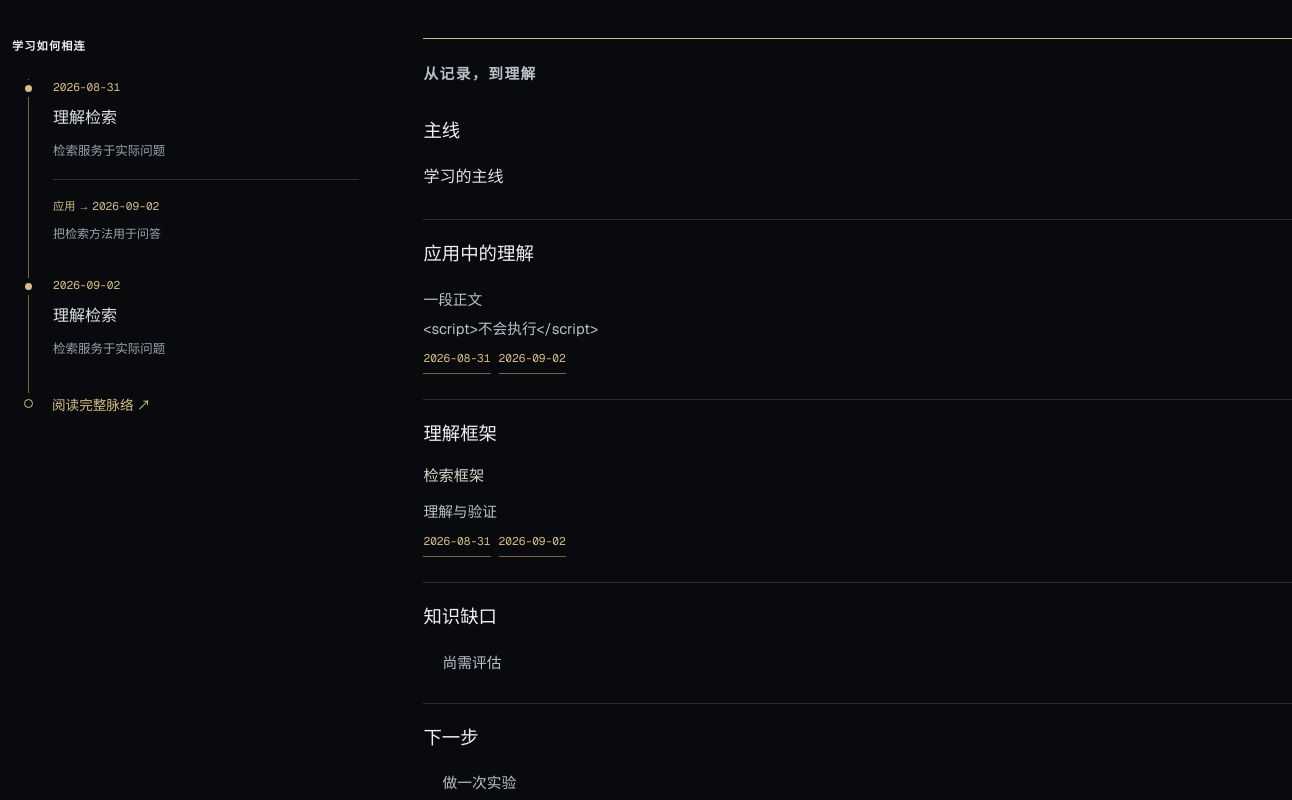
Scenario: reads all three reflections in a source snapshot without exposing their storage format
This screenshot has width=1292, height=800.
Click the button with aria-label "查看来源 2026-08-31".
click(87, 87)  # box [53,79,359,163]
(page scrolled)
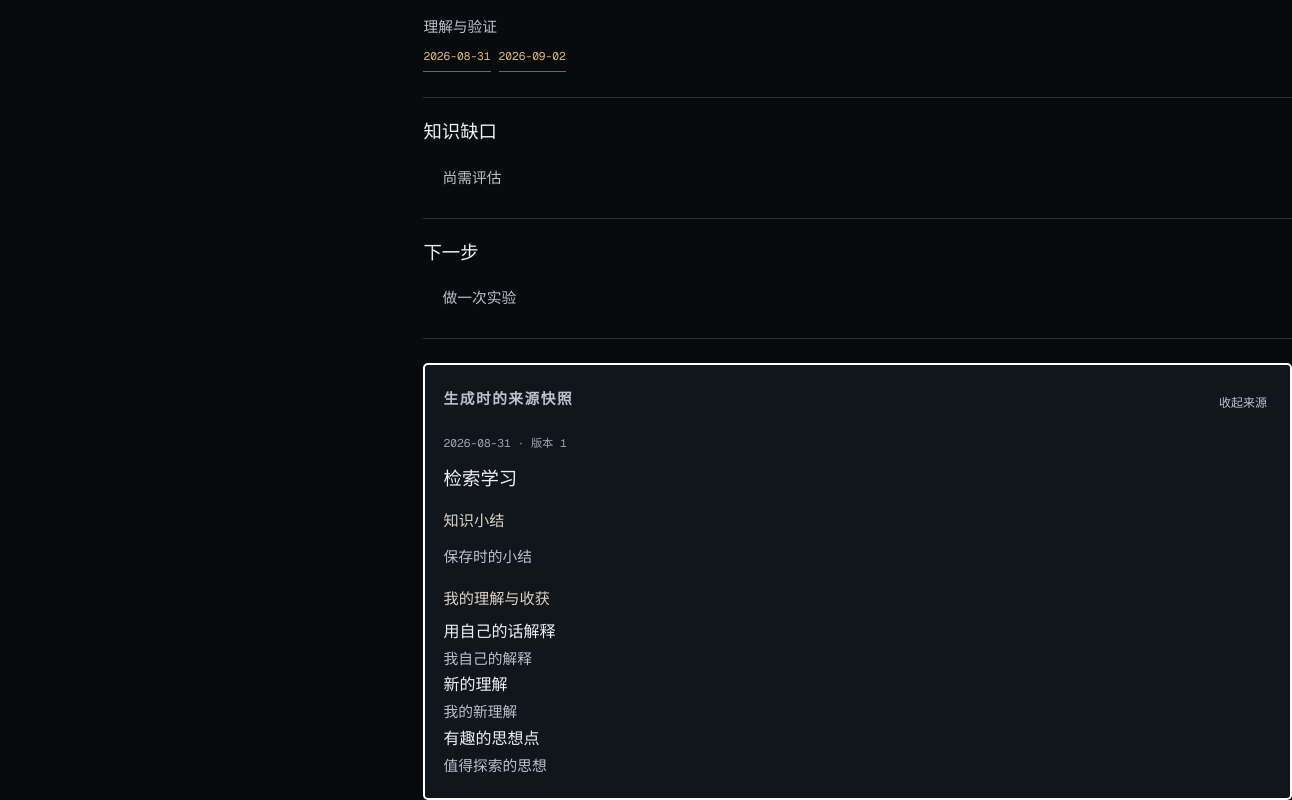
Expected: the heading "用自己的话解释" is shown, [444,621,556,642]
Expected: the heading "新的理解" is shown, [444,674,508,695]
Expected: the heading "有趣的思想点" is shown, [444,728,540,749]
